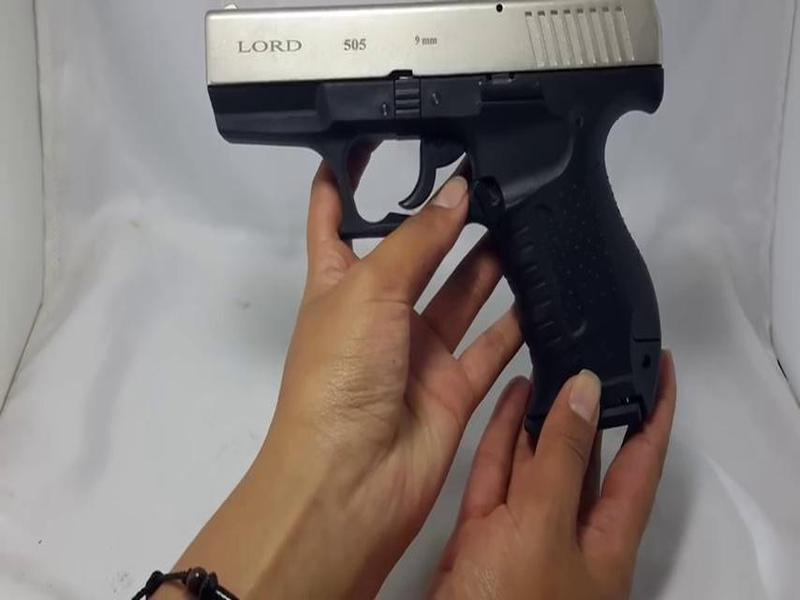Pistola: (164, 1, 708, 451)
